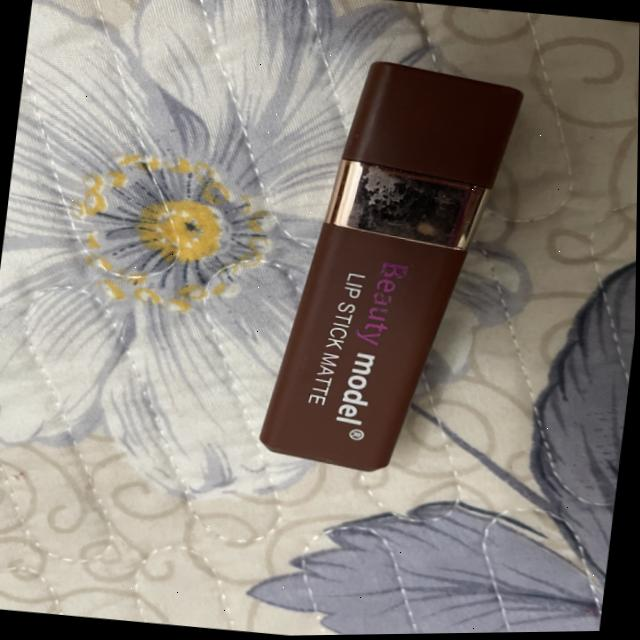lip stick: (246, 53, 530, 499)
